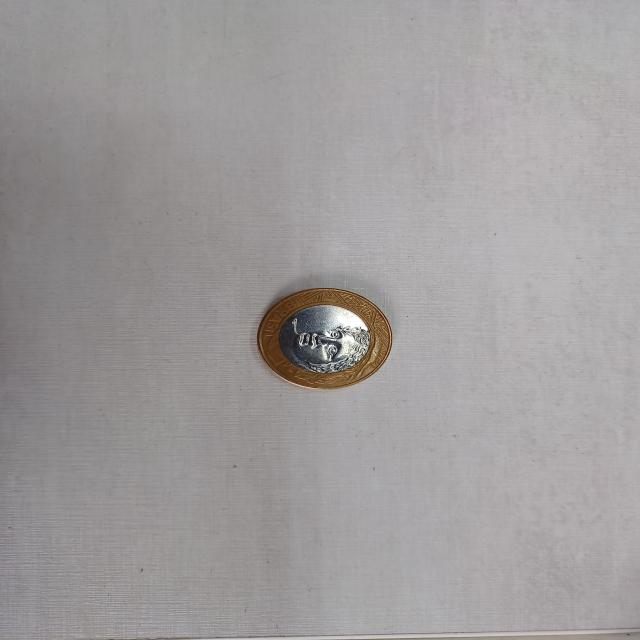1 real: (254, 286, 398, 392)
